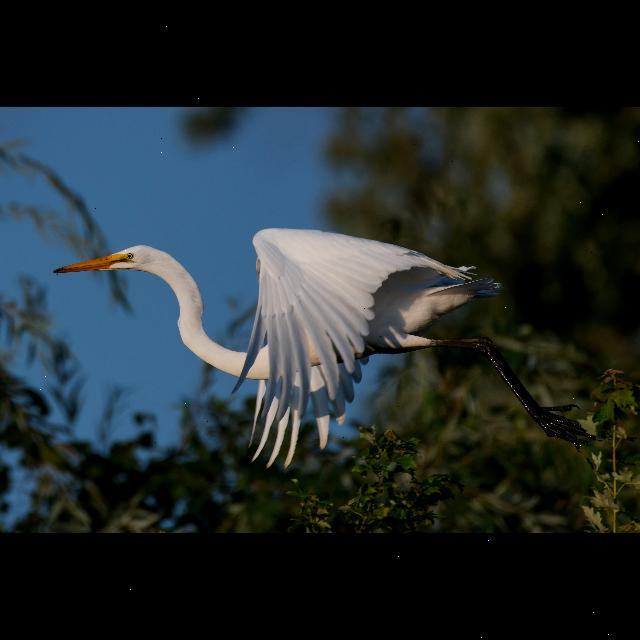egret: (52, 228, 602, 462)
